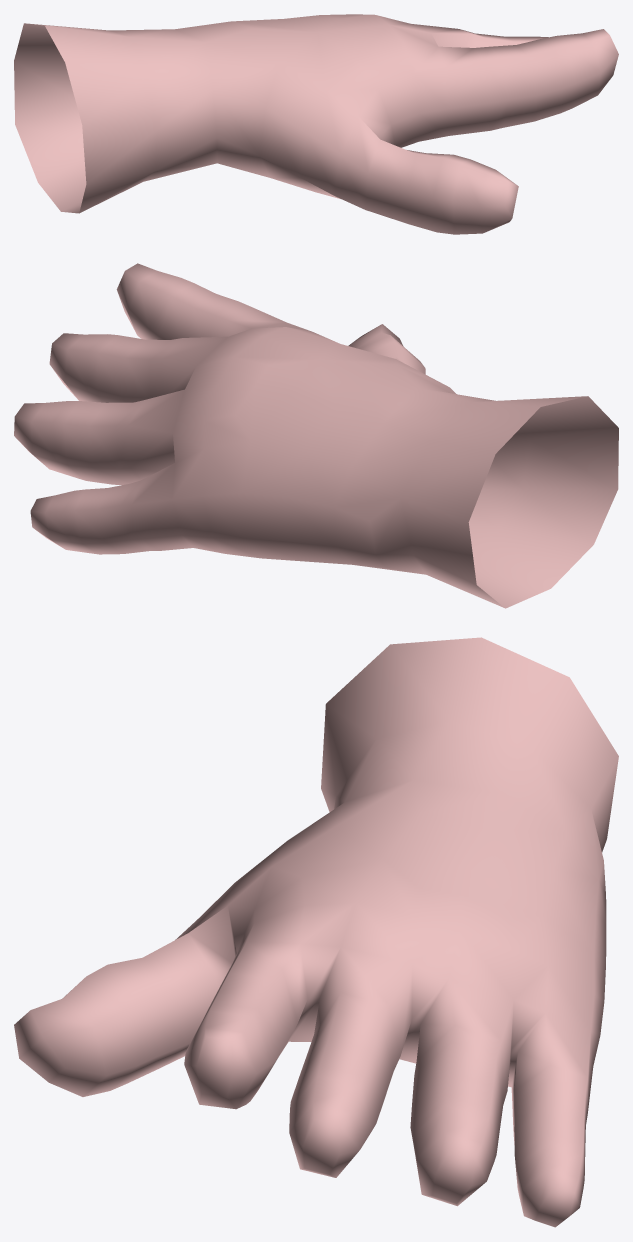
The model's file is Nendoroid_B_Hand01.fbx.
The picture shows the model from 3 angles, top to bottom: view 1: azimuth 30°, elevation 25°; view 2: azimuth 150°, elevation 25°; view 3: azimuth 270°, elevation 25°; orthographic projection. The views are drawn at different scales.
Visible parts, largest first — view 1: Nendoroid_B_Hand01; view 2: Nendoroid_B_Hand01; view 3: Nendoroid_B_Hand01.
Boxes of the visible parts, box(x1,y1,x2,y2) form: Nendoroid_B_Hand01: box(14, 14, 618, 234); Nendoroid_B_Hand01: box(14, 263, 618, 608); Nendoroid_B_Hand01: box(14, 637, 618, 1227).
Bounding box in the file's own units: 0.5719 × 0.2246 × 0.4064.
